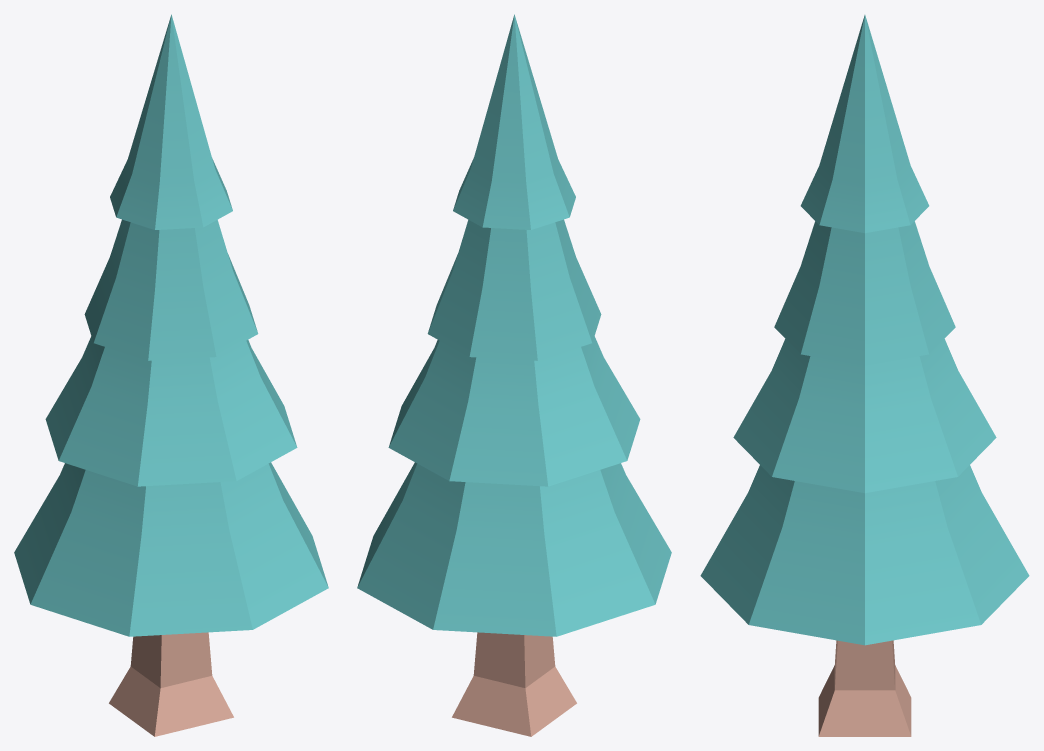
File: nadelbaum_3.glb
3 views of the same model, side by side, from view 1: azimuth 30°, elevation 25°; view 2: azimuth 150°, elevation 25°; view 3: azimuth 270°, elevation 25° (orthographic).
Visible parts, largest first — view 1: tree_pineRoundE; view 2: tree_pineRoundE; view 3: tree_pineRoundE.
Boxes of the visible parts, left/top/right/bottom form: tree_pineRoundE: left=14, top=14, right=328, bottom=736; tree_pineRoundE: left=357, top=14, right=671, bottom=736; tree_pineRoundE: left=700, top=15, right=1029, bottom=736.
Size of the model in its own units: 0.532 by 1.25 by 0.532.
